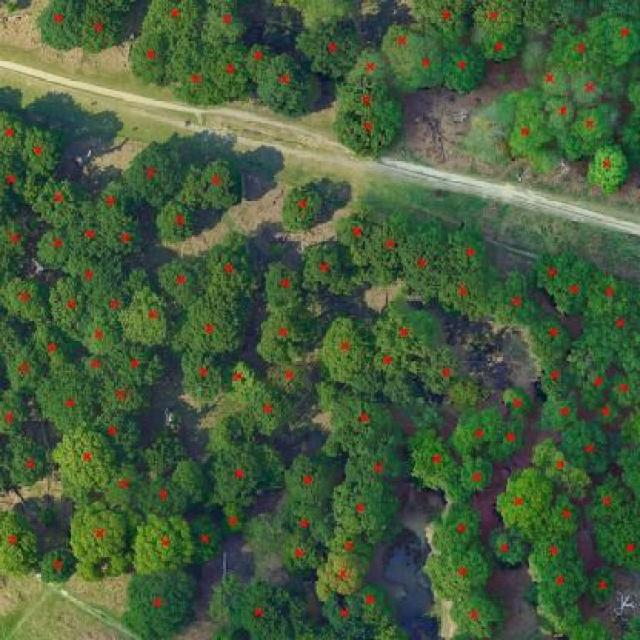tree: (204, 569, 339, 640), (111, 558, 211, 640), (202, 424, 289, 514), (321, 472, 414, 550), (168, 281, 255, 362), (491, 460, 562, 552), (126, 505, 203, 587), (323, 384, 402, 462), (527, 540, 591, 632), (314, 303, 380, 392), (406, 200, 457, 315), (63, 492, 142, 566), (115, 135, 191, 211), (48, 416, 120, 496), (291, 12, 369, 85), (364, 296, 448, 362), (221, 374, 302, 441), (32, 359, 102, 436), (530, 428, 598, 507), (115, 277, 180, 358), (326, 78, 420, 134), (252, 48, 321, 124), (251, 301, 326, 370), (305, 546, 392, 605), (580, 492, 640, 577), (554, 409, 621, 485), (205, 228, 266, 309), (402, 422, 466, 496), (442, 398, 512, 465), (328, 106, 406, 166), (23, 170, 97, 233), (415, 544, 496, 601), (549, 248, 611, 322), (164, 49, 236, 112), (543, 16, 615, 79), (428, 495, 490, 567), (578, 297, 640, 369), (200, 38, 258, 114), (486, 262, 546, 335), (580, 259, 640, 332), (119, 28, 184, 95), (294, 233, 358, 301), (59, 245, 130, 306), (500, 93, 562, 162), (518, 525, 594, 580), (436, 587, 514, 640), (405, 0, 481, 54), (12, 117, 71, 186), (368, 205, 414, 293), (174, 339, 232, 408), (0, 502, 49, 581), (88, 404, 148, 468), (339, 437, 410, 491), (187, 152, 248, 214), (566, 95, 625, 159), (276, 172, 330, 240), (279, 449, 333, 517), (147, 252, 208, 312), (0, 268, 57, 332), (329, 200, 377, 274), (69, 0, 128, 60), (354, 578, 411, 640), (581, 9, 640, 68), (107, 338, 171, 392), (30, 0, 93, 54), (0, 432, 57, 491), (438, 265, 493, 326), (58, 208, 125, 258), (438, 40, 492, 102), (581, 136, 634, 199), (397, 34, 449, 98), (272, 525, 331, 581), (444, 216, 494, 282), (0, 338, 51, 402), (527, 386, 587, 440), (68, 304, 123, 362), (143, 0, 208, 49), (260, 349, 318, 403), (315, 586, 373, 640), (195, 0, 256, 51), (131, 474, 197, 521), (416, 343, 470, 400), (28, 218, 84, 272), (46, 268, 89, 338), (583, 473, 634, 532), (524, 307, 573, 368), (28, 323, 83, 377), (611, 406, 640, 508), (182, 512, 230, 573), (574, 345, 614, 418), (528, 249, 580, 305), (256, 254, 306, 312), (517, 0, 599, 35), (528, 350, 581, 404), (98, 370, 153, 422), (0, 211, 38, 286), (282, 0, 363, 35), (319, 523, 386, 565), (465, 27, 530, 70), (344, 40, 398, 91), (96, 457, 147, 511), (536, 84, 579, 148), (101, 212, 156, 262), (360, 338, 414, 388), (372, 13, 423, 65), (172, 454, 216, 514), (278, 499, 333, 547), (482, 409, 529, 465), (542, 488, 589, 544), (84, 176, 138, 224), (223, 353, 271, 405), (484, 522, 530, 576), (611, 97, 640, 180), (583, 556, 622, 616), (566, 63, 611, 114), (34, 542, 81, 587), (529, 62, 577, 106), (244, 34, 279, 94), (465, 0, 525, 35), (237, 509, 283, 554), (0, 382, 35, 440), (90, 273, 132, 321), (446, 376, 499, 413), (498, 382, 537, 432), (0, 105, 32, 163), (0, 152, 32, 210), (152, 419, 188, 470), (211, 497, 252, 541), (453, 458, 498, 498), (74, 345, 118, 384), (604, 366, 640, 413), (584, 394, 624, 434), (559, 614, 613, 640), (99, 550, 141, 579), (71, 558, 104, 588), (618, 78, 640, 114), (620, 603, 640, 640)
